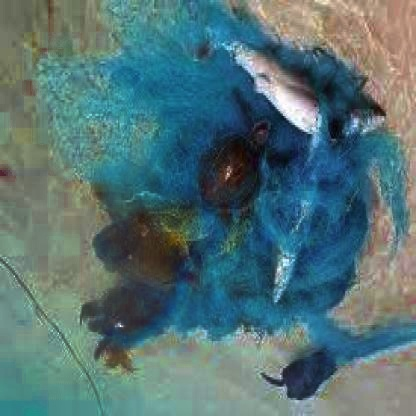net: (110, 34, 364, 346)
